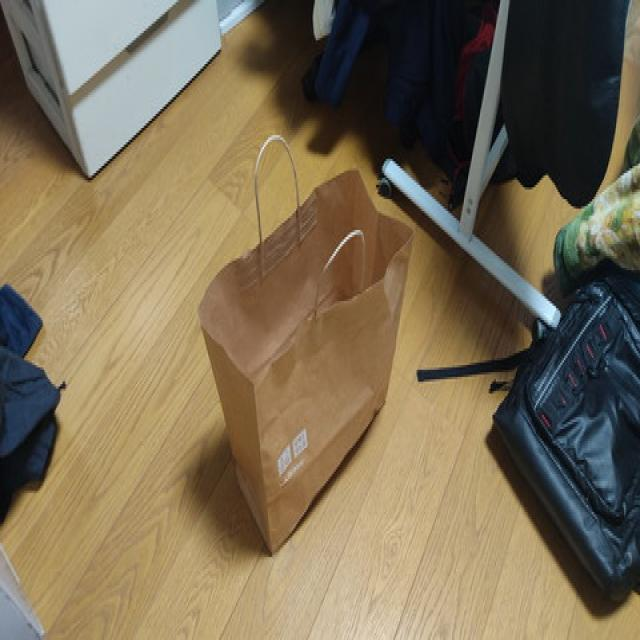paper bag: (194, 127, 417, 562)
